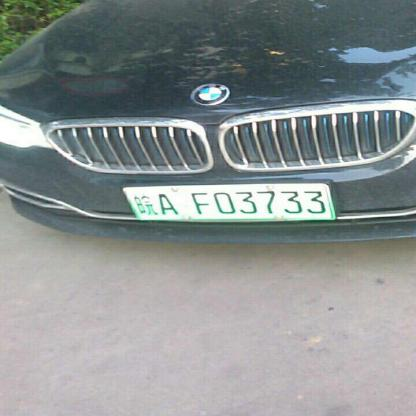lp: (121, 184, 335, 221)
